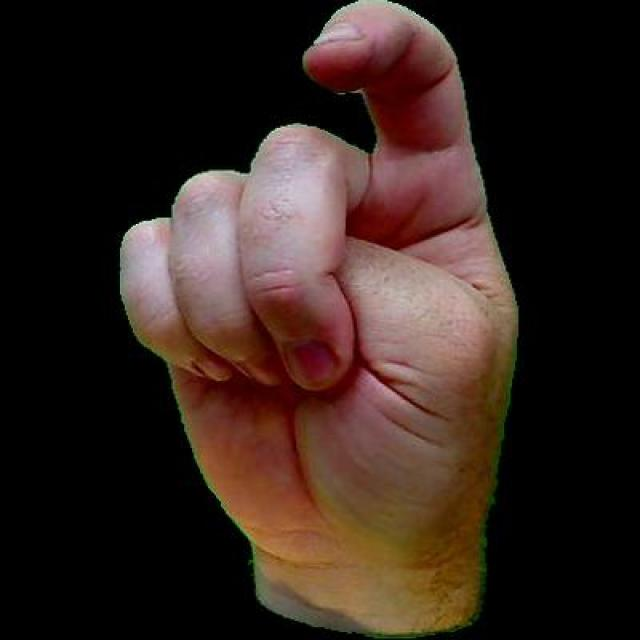x: (99, 0, 536, 637)
